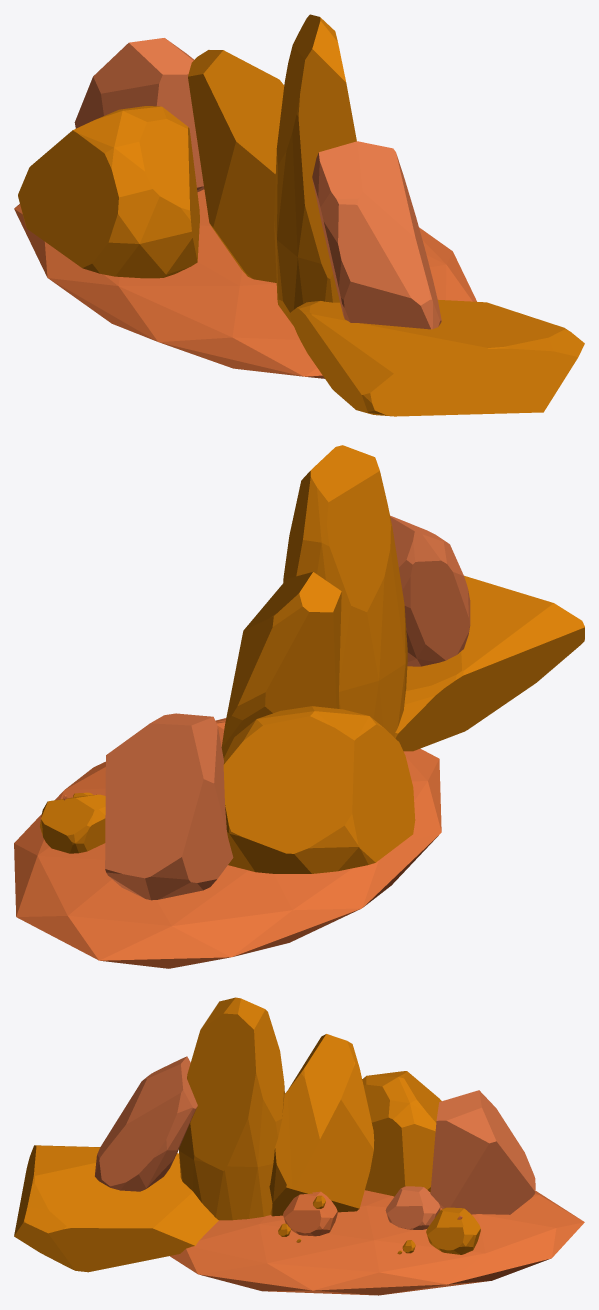
The model's file is rockwall.fbx.
3 views of the same model, one above another, from view 1: azimuth 30°, elevation 25°; view 2: azimuth 150°, elevation 25°; view 3: azimuth 270°, elevation 25° (orthographic). The views are drawn at different scales.
Visible parts, largest first — view 1: Icosphere.006, Icosphere.001, Icosphere.002, Icosphere.011, Icosphere.004, Icosphere, Icosphere.003; view 2: Icosphere.002, Icosphere.001, Icosphere, Icosphere.003, Icosphere.006, Icosphere.004, Icosphere.011, Icosphere.010; view 3: Icosphere.002, Icosphere, Icosphere.006, Icosphere.004, Icosphere.003, Icosphere.011, Icosphere.001, Icosphere.010, Icosphere.005, Icosphere.009.
Part boxes in pixels (left/top/right/bottom): Icosphere.006: left=290, top=299, right=584, bottom=416; Icosphere.001: left=18, top=106, right=199, bottom=278; Icosphere.002: left=14, top=189, right=476, bottom=378; Icosphere.011: left=312, top=141, right=441, bottom=329; Icosphere.004: left=188, top=50, right=284, bottom=282; Icosphere: left=274, top=14, right=356, bottom=325; Icosphere.003: left=74, top=38, right=204, bottom=192; Icosphere.002: left=14, top=718, right=441, bottom=968; Icosphere.001: left=223, top=706, right=415, bottom=873; Icosphere: left=283, top=445, right=407, bottom=736; Icosphere.003: left=105, top=713, right=233, bottom=900; Icosphere.006: left=394, top=575, right=584, bottom=751; Icosphere.004: left=221, top=572, right=341, bottom=757; Icosphere.011: left=390, top=515, right=470, bottom=666; Icosphere.010: left=40, top=794, right=105, bottom=853; Icosphere.002: left=170, top=1190, right=584, bottom=1295; Icosphere: left=179, top=997, right=284, bottom=1220; Icosphere.006: left=14, top=1145, right=218, bottom=1272; Icosphere.004: left=269, top=1034, right=374, bottom=1216; Icosphere.003: left=430, top=1090, right=535, bottom=1214; Icosphere.011: left=95, top=1056, right=197, bottom=1191; Icosphere.001: left=362, top=1071, right=441, bottom=1196; Icosphere.010: left=426, top=1207, right=480, bottom=1254; Icosphere.005: left=385, top=1186, right=440, bottom=1229; Icosphere.009: left=283, top=1191, right=337, bottom=1236.
Bounding box in the file's own units: 1335 × 1288 × 2623.
